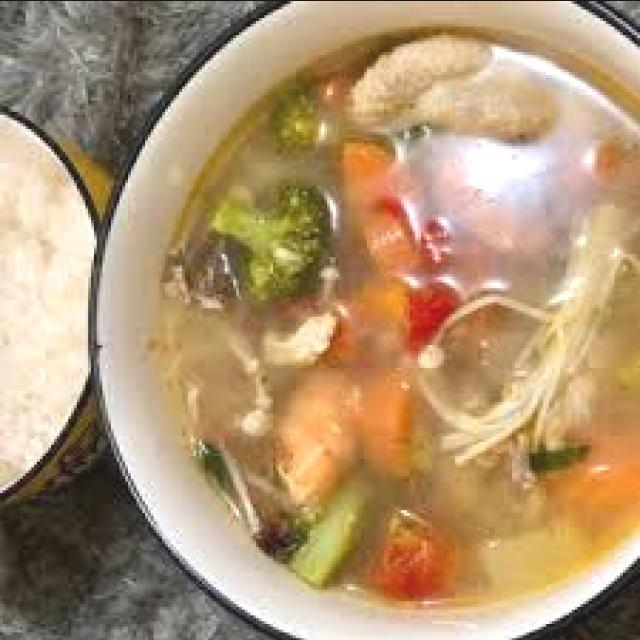sop: (165, 28, 640, 612)
